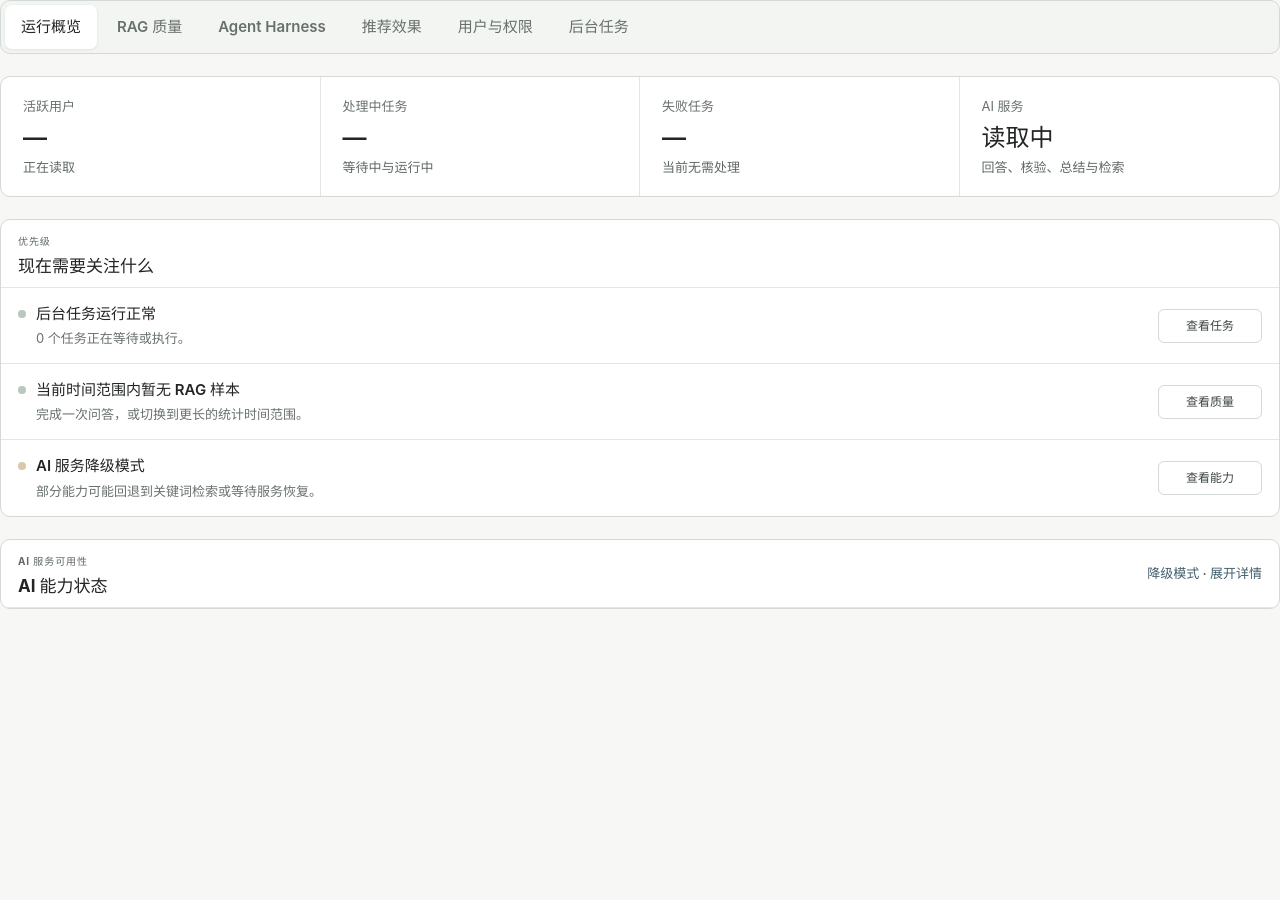
Test case: AdminView 管理信息语义 › 用明确按钮和中文说明展示 AI 能力与任务状态
This screenshot has width=1280, height=900.
Expected: the heading "现在需要关注什么" is shown, x1=18 y1=255 x2=154 y2=278
Click the button "查看能力": [1210, 478] box x1=1158 y1=461 x2=1262 y2=495
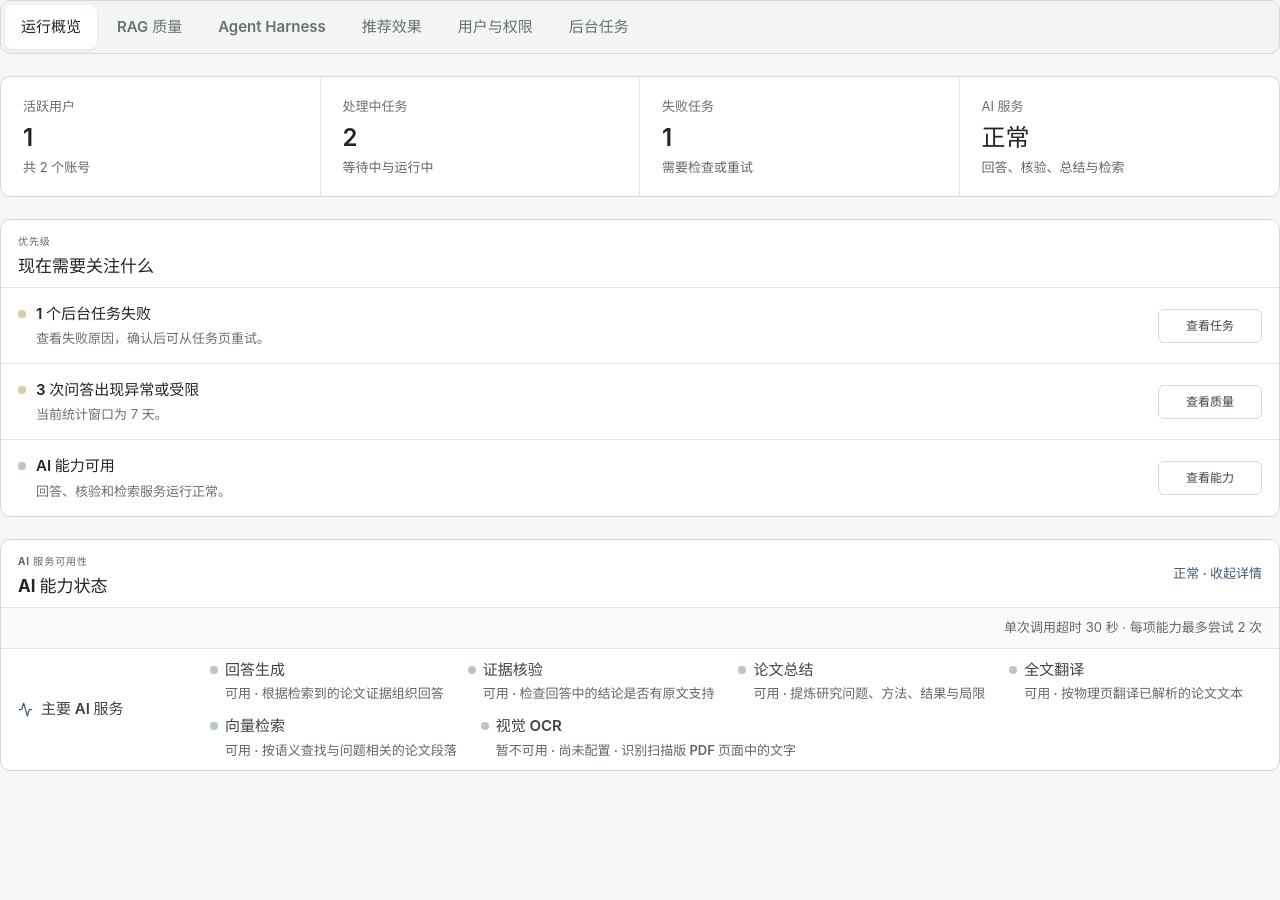
Expected: the heading "RAG 运行质量" is not shown
Now the element "AI 能力状态" has attribute open, box x1=0 y1=539 x2=1279 y2=771
Click the tab "用户与权限": [495, 27] box x1=442 y1=5 x2=549 y2=49
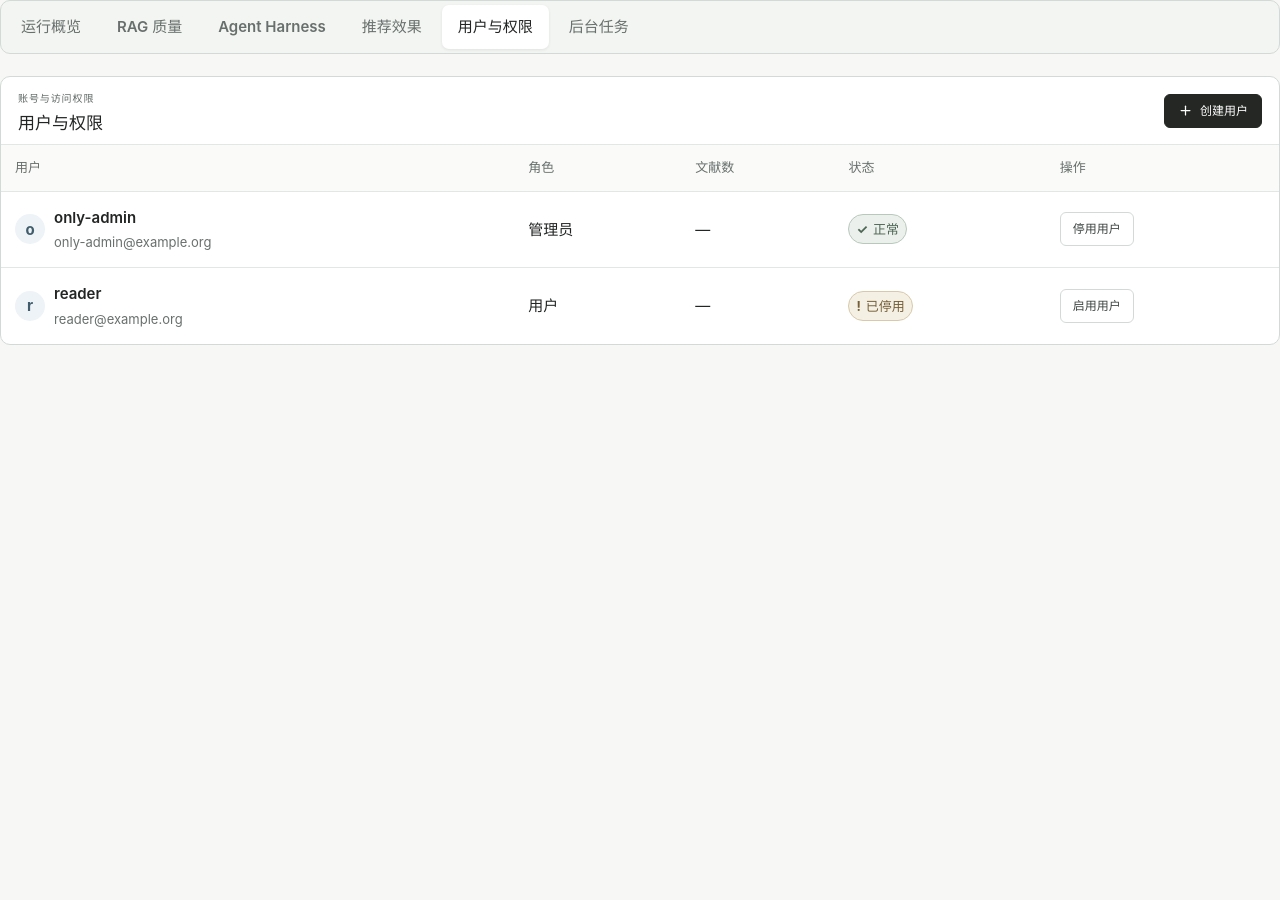
Now the button with aria-label "停用用户 only-admin" reads "停用用户", box x1=1060 y1=212 x2=1134 y2=246
Now the button with aria-label "启用用户 reader" reads "启用用户", box x1=1060 y1=289 x2=1134 y2=323
Click the tab "运行概览": [51, 27] box x1=5 y1=5 x2=97 y2=49
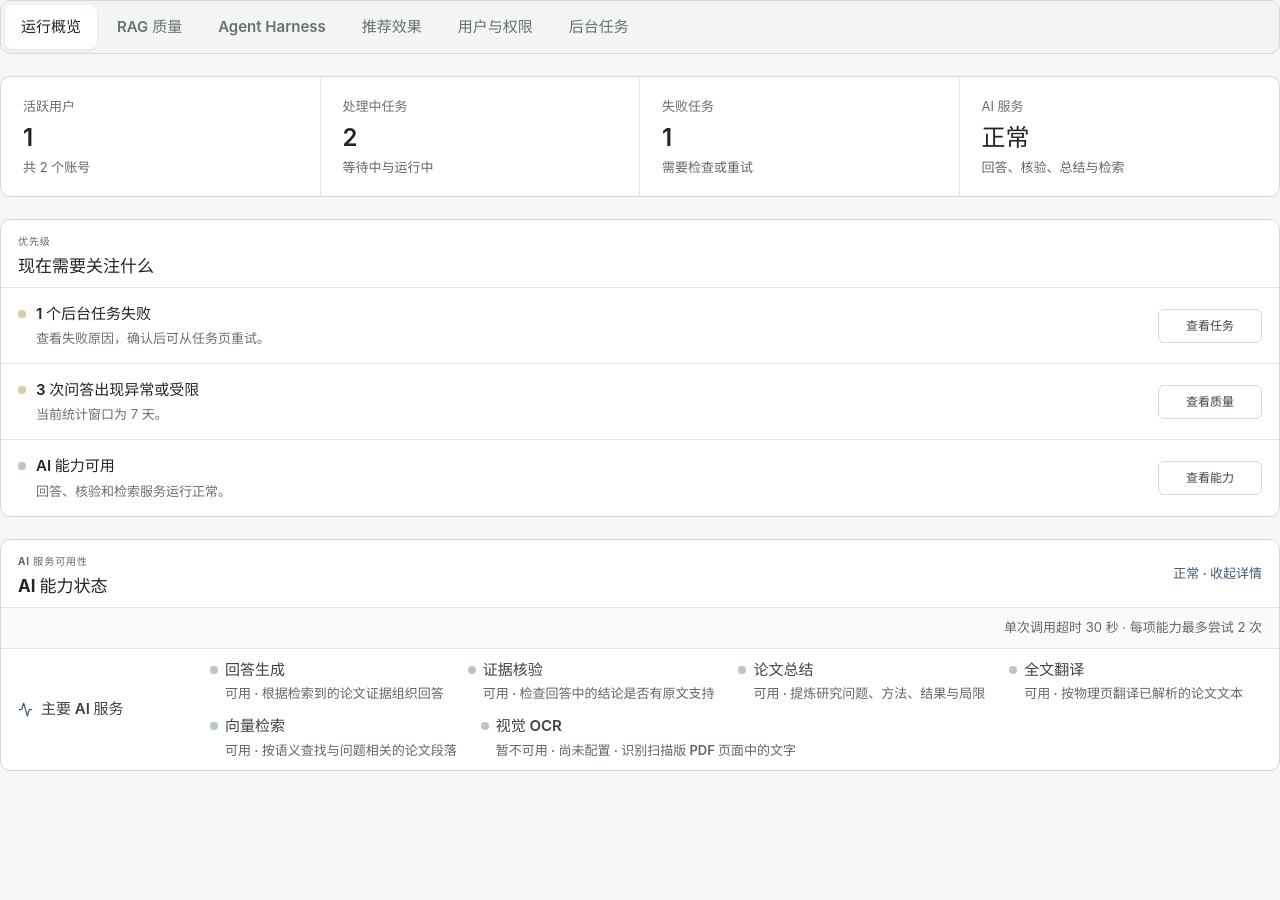
Now the heading "AI 能力状态" is shown, box x1=18 y1=575 x2=108 y2=598
Now the text "视觉 OCR" is shown, box x1=496 y1=716 x2=562 y2=735
Now the text "暂不可用 · 尚未配置 · 识别扫描版 PDF 页面中的文字" is shown, box x1=496 y1=740 x2=796 y2=760
Click the tab "RAG 质量": [150, 27] box x1=101 y1=5 x2=198 y2=49
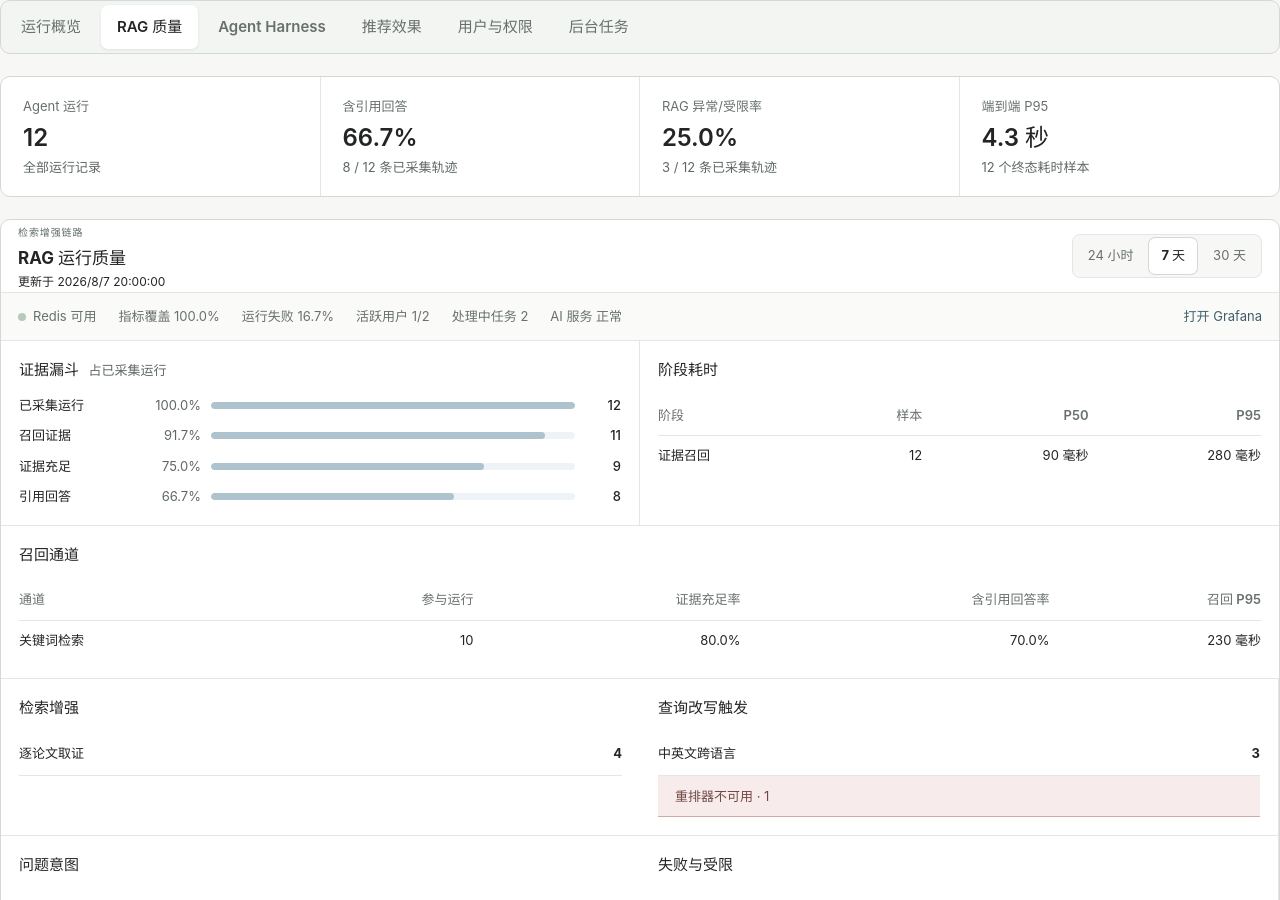
Now the heading "RAG 运行质量" is shown, box x1=18 y1=248 x2=126 y2=268
Now the text "关键词检索" is shown, box x1=19 y1=620 x2=257 y2=660
Now the text "逐论文取证" is shown, box x1=19 y1=744 x2=84 y2=764
Click the tab "后台任务": [599, 27] box x1=553 y1=5 x2=645 y2=49
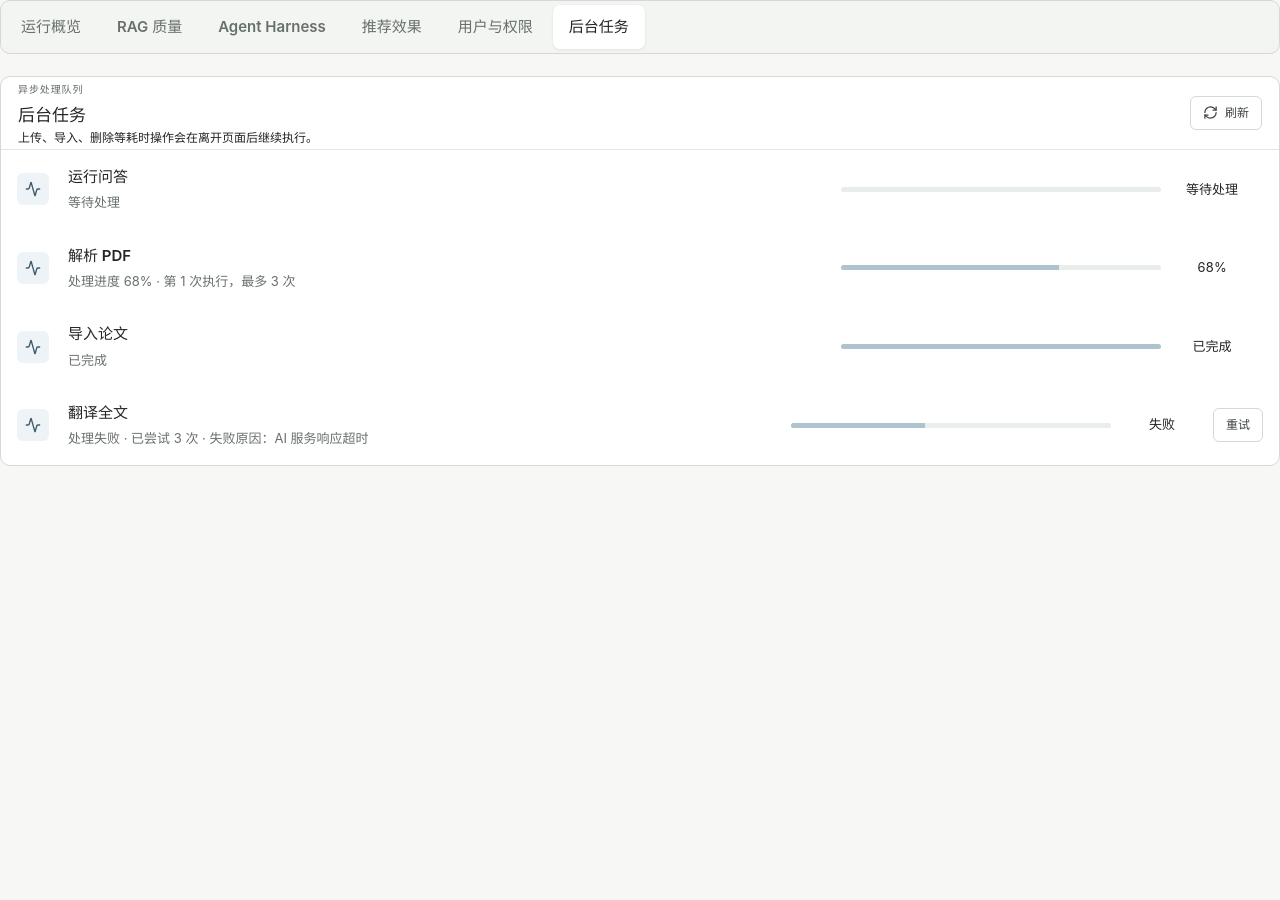
Now the panel "后台任务" is shown, box x1=0 y1=76 x2=1279 y2=466
Now the text "解析 PDF" is shown, box x1=68 y1=246 x2=131 y2=265
Now the text "处理进度 68% · 第 1 次执行，最多 3 次" is shown, box x1=68 y1=273 x2=296 y2=289
